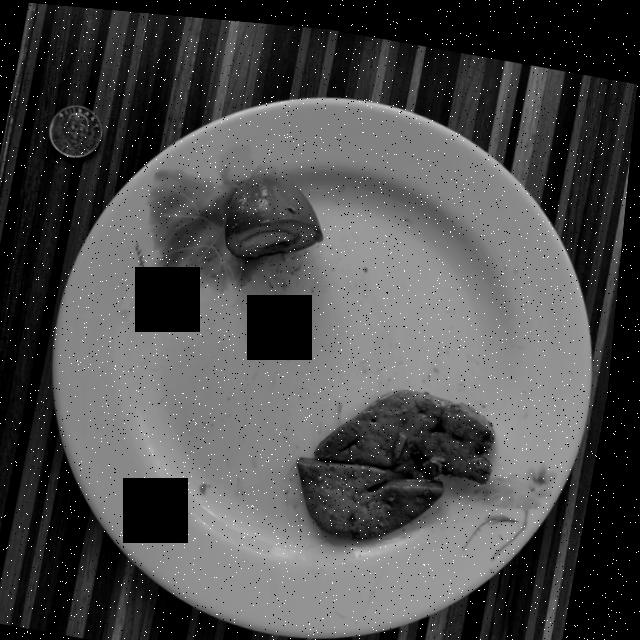coin: (50, 103, 104, 156)
pig liver: (305, 381, 502, 532)
soy egg: (227, 168, 326, 253)
